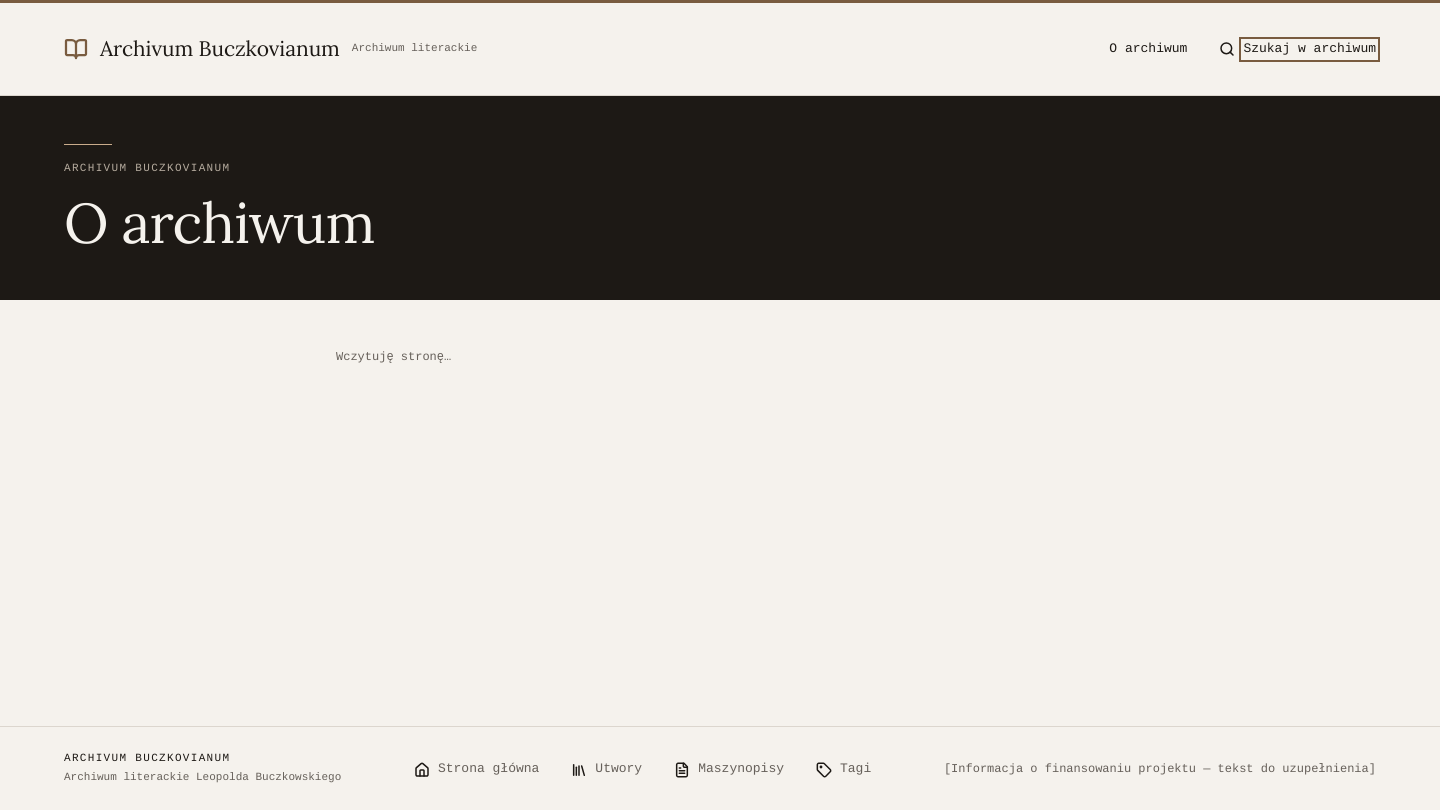
Test: SearchCombobox › US-RA-17 AC1: typing in the header field suggests works and tags
Type "czarny p" into the dropdown labelled "Szukaj w archiwum".
click(1310, 49); type("czarny p")  # box [1243,41,1376,58]
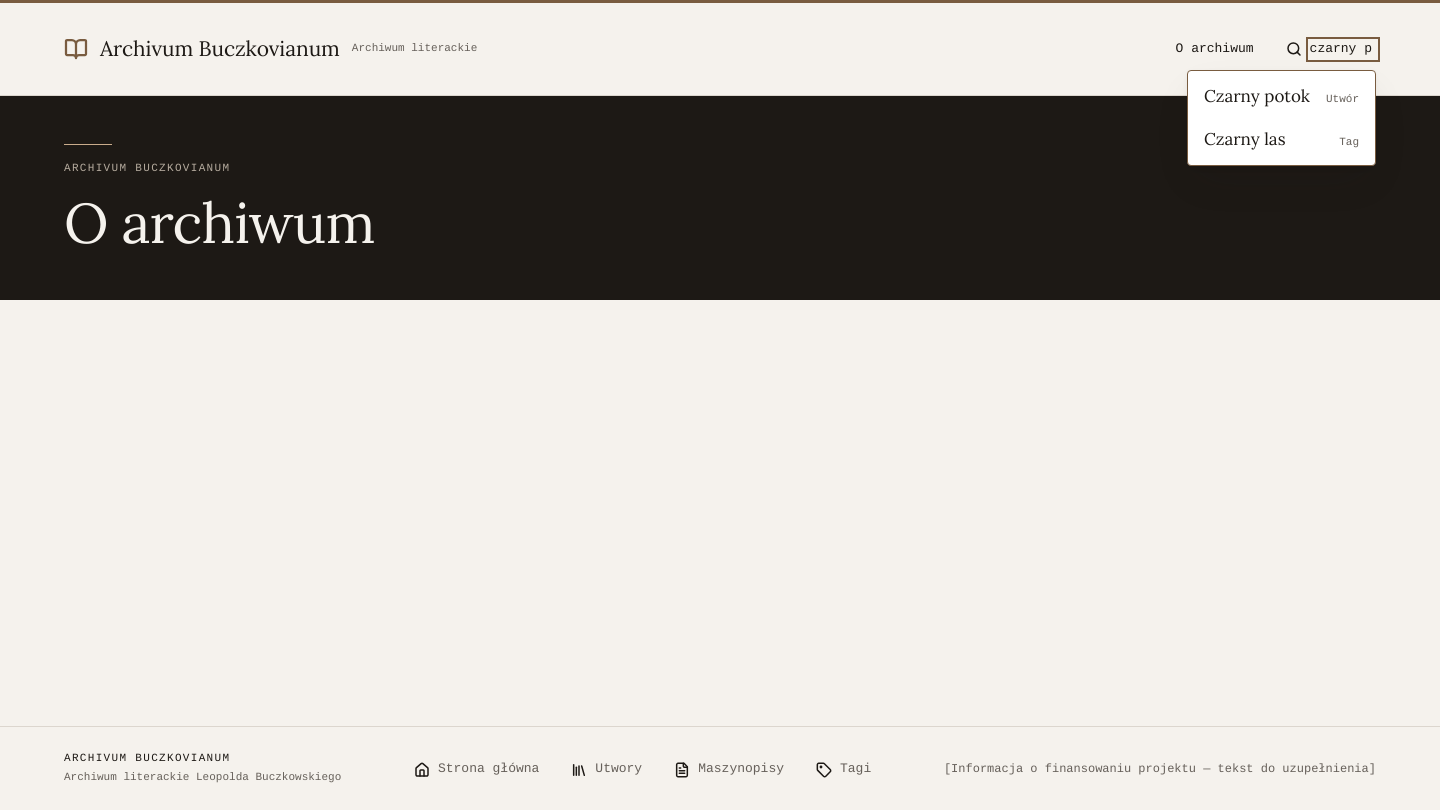
Expected: the dropdown named "Szukaj w archiwum" is expanded, [1310,41,1376,58]
